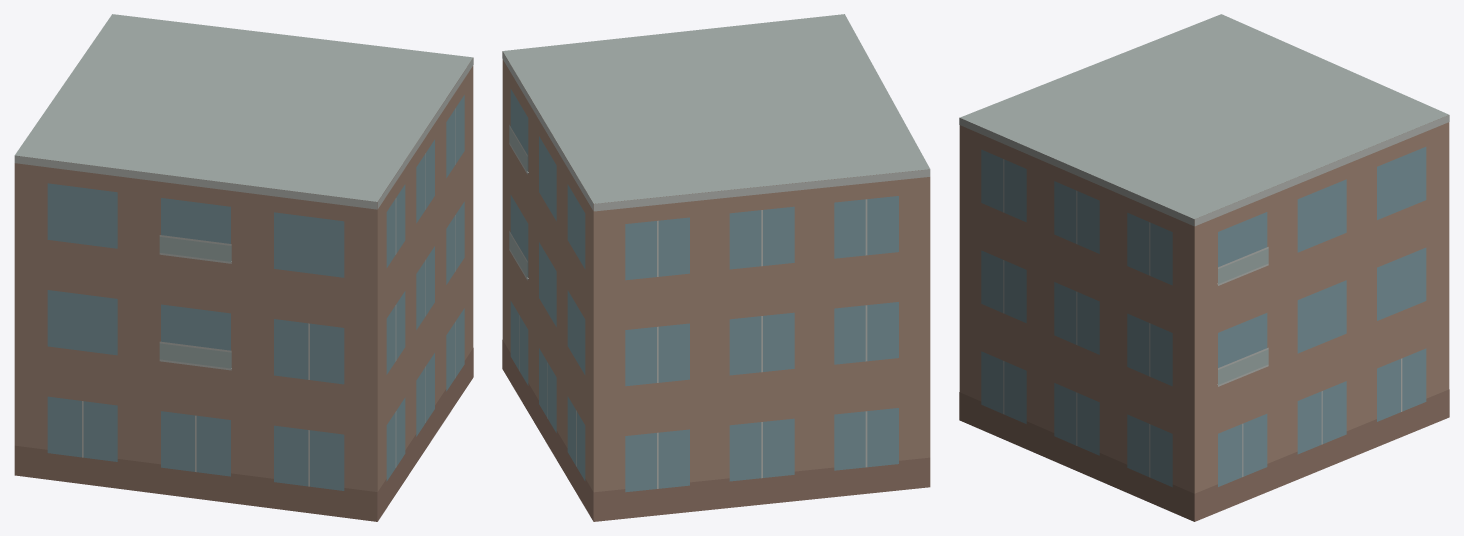
File: survey-upis-32855489.glb
3 views of the same model, side by side, from view 1: azimuth 30°, elevation 25°; view 2: azimuth 150°, elevation 25°; view 3: azimuth 270°, elevation 25° (orthographic). The views are drawn at different scales.
Visible parts, largest first — view 1: survey-upis-32855489.tmp; view 2: survey-upis-32855489.tmp; view 3: survey-upis-32855489.tmp.
Part boxes in pixels (bbox=[...]): survey-upis-32855489.tmp: bbox=[14, 14, 473, 521]; survey-upis-32855489.tmp: bbox=[502, 14, 930, 521]; survey-upis-32855489.tmp: bbox=[959, 14, 1449, 521].
Size of the model in its own units: 14.84 by 10.2 by 14.97.
